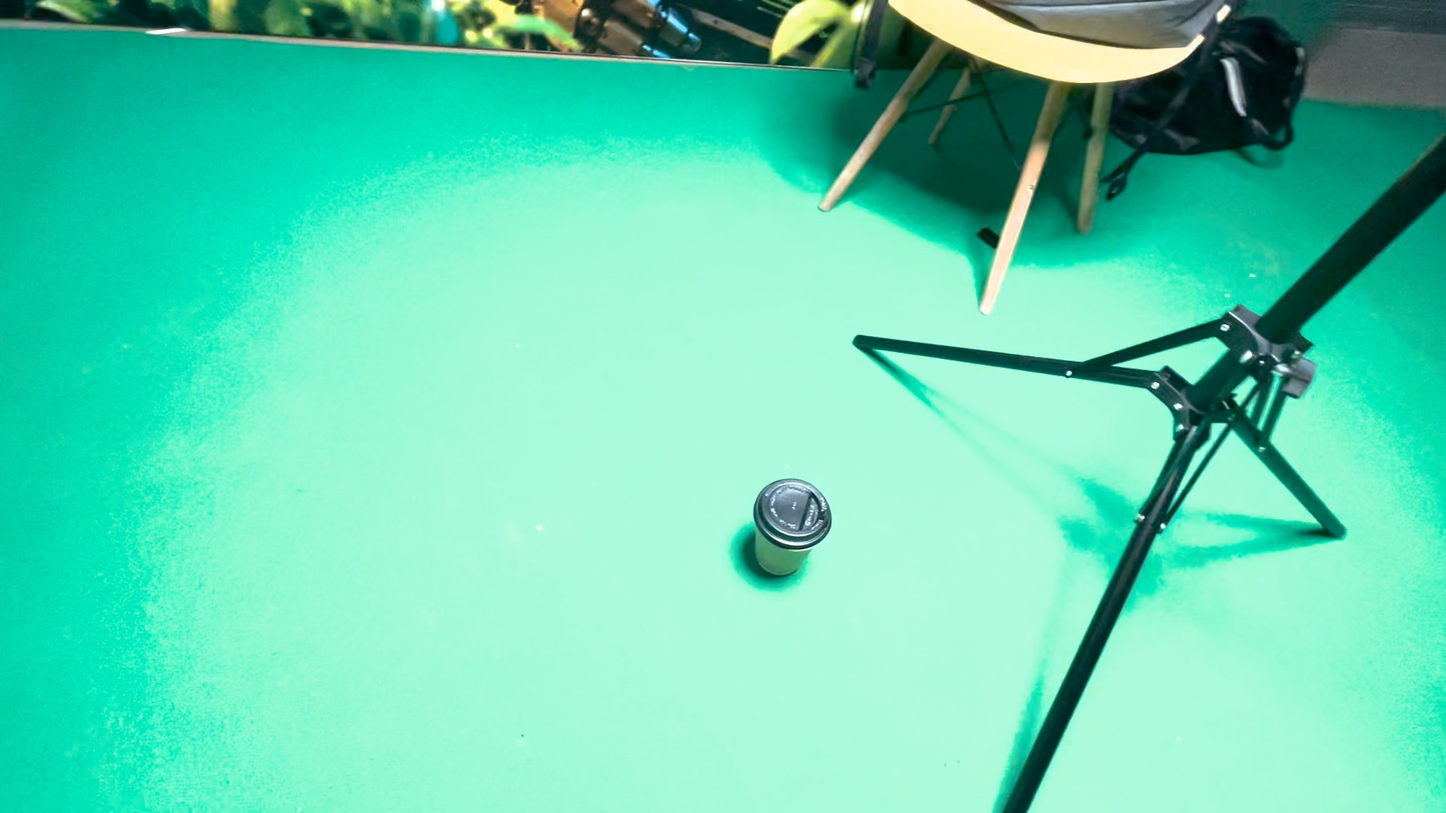cup: (694, 431, 817, 606)
